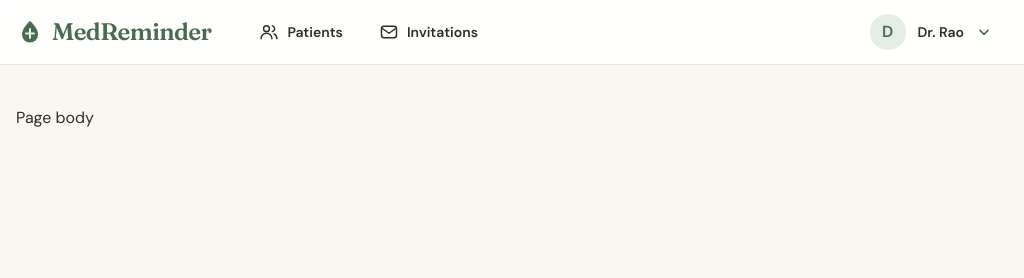
Test case: user menu › opens to show who you are and your role, and closes with Escape returning focus to the button
Click the button with aria-label "account menu for dr. rao" at [937, 32], box [866, 10, 1008, 54]
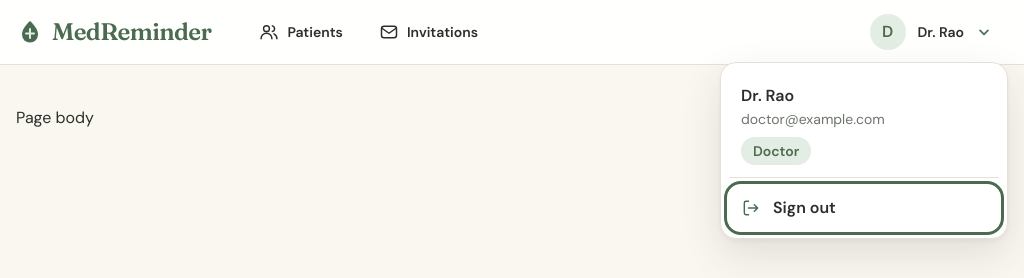
Now the text "doctor@example.com" is shown, box [741, 110, 885, 128]
Now the text "Doctor" is shown, box [741, 137, 811, 165]
Press Escape
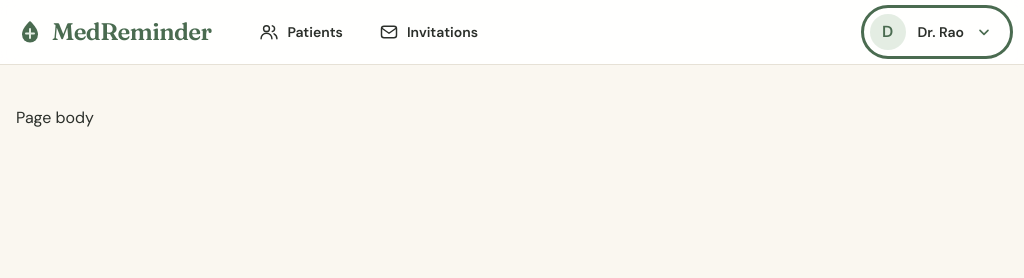
Now the menu is gone
